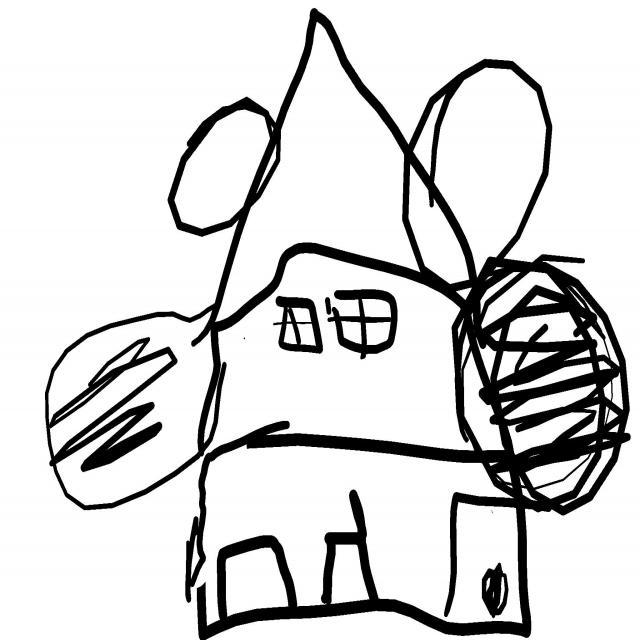door: (449, 493, 531, 633)
house: (201, 6, 532, 637)
roof: (202, 6, 483, 338)
wall: (199, 248, 534, 640)
window: (329, 286, 395, 352), (277, 302, 318, 352)
